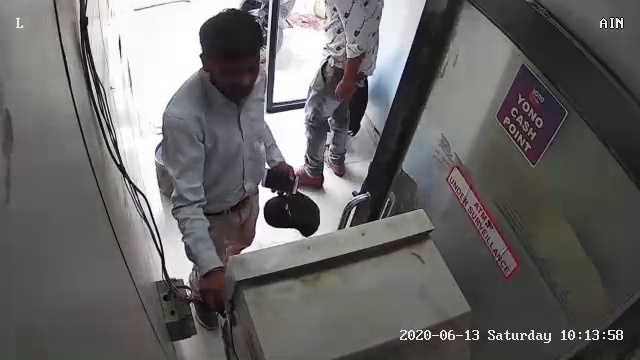open: (335, 4, 636, 354)
